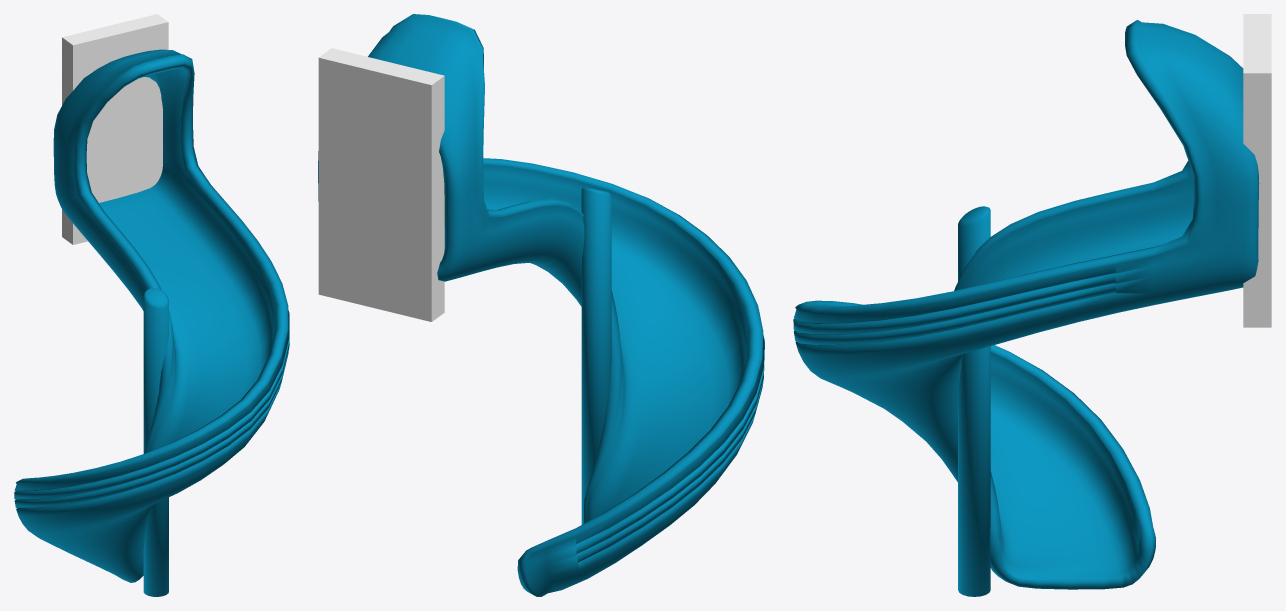
File: SUPS-5.6191c3d6.glb
3 views of the same model, side by side, from view 1: azimuth 30°, elevation 25°; view 2: azimuth 150°, elevation 25°; view 3: azimuth 270°, elevation 25° (orthographic). The views are drawn at different scales.
Parts seen in each view (by area): view 1: Cylinder014,_colorize_, joint,2,6; view 2: Cylinder014,_colorize_, joint,2,6; view 3: Cylinder014,_colorize_, joint,2,6.
Part boxes in pixels (<box>): Cylinder014,_colorize_: <box>14,49,289,596</box>; joint,2,6: <box>62,14,168,244</box>; Cylinder014,_colorize_: <box>318,14,764,596</box>; joint,2,6: <box>318,48,444,321</box>; Cylinder014,_colorize_: <box>793,20,1259,596</box>; joint,2,6: <box>1243,14,1271,327</box>.
Bounding box in the file's own units: 1.31 × 2.37 × 1.7.
